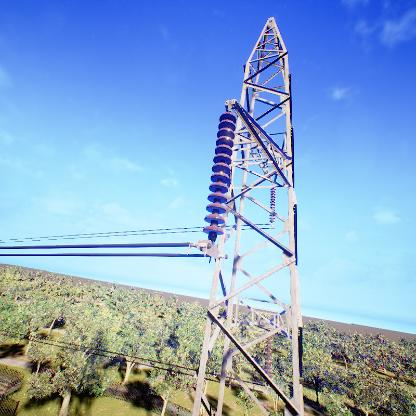insulator: (199, 112, 238, 238), (268, 186, 277, 225)
